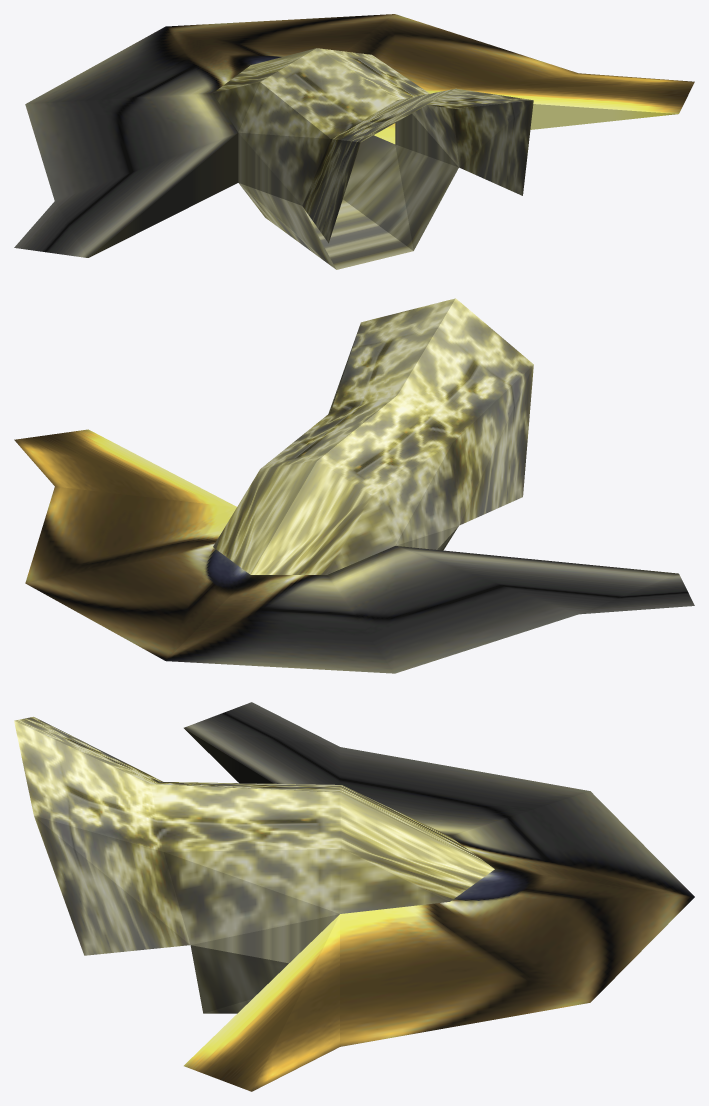
File: twinblade102_5.obj
The picture shows the model from 3 angles, top to bottom: view 1: azimuth 30°, elevation 25°; view 2: azimuth 150°, elevation 25°; view 3: azimuth 270°, elevation 25°; orthographic projection. The views are drawn at different scales.
Visible parts, largest first — view 1: MDL_cwdhkn02_5r; view 2: MDL_cwdhkn02_5r; view 3: MDL_cwdhkn02_5r.
Part boxes in pixels (left/top/right/bottom): MDL_cwdhkn02_5r: left=14, top=14, right=694, bottom=269; MDL_cwdhkn02_5r: left=14, top=298, right=694, bottom=673; MDL_cwdhkn02_5r: left=14, top=702, right=694, bottom=1091.
Size of the model in its own units: 0.64 by 0.2074 by 0.4725.
